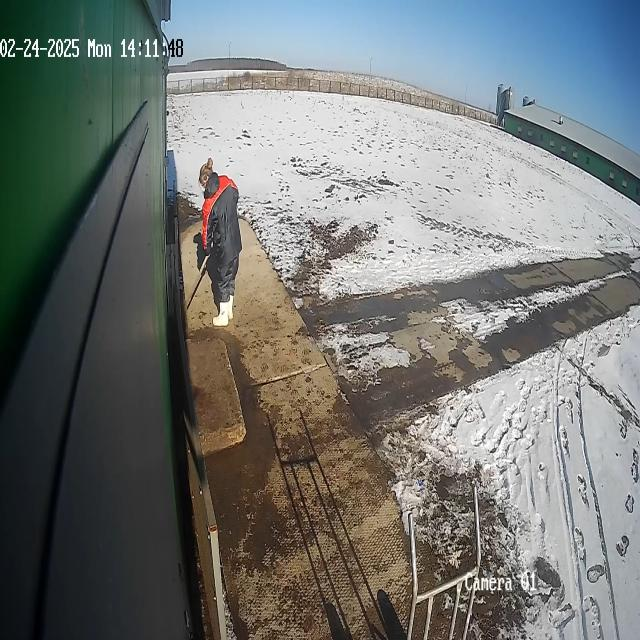Red uniform: (200, 172, 243, 310)
